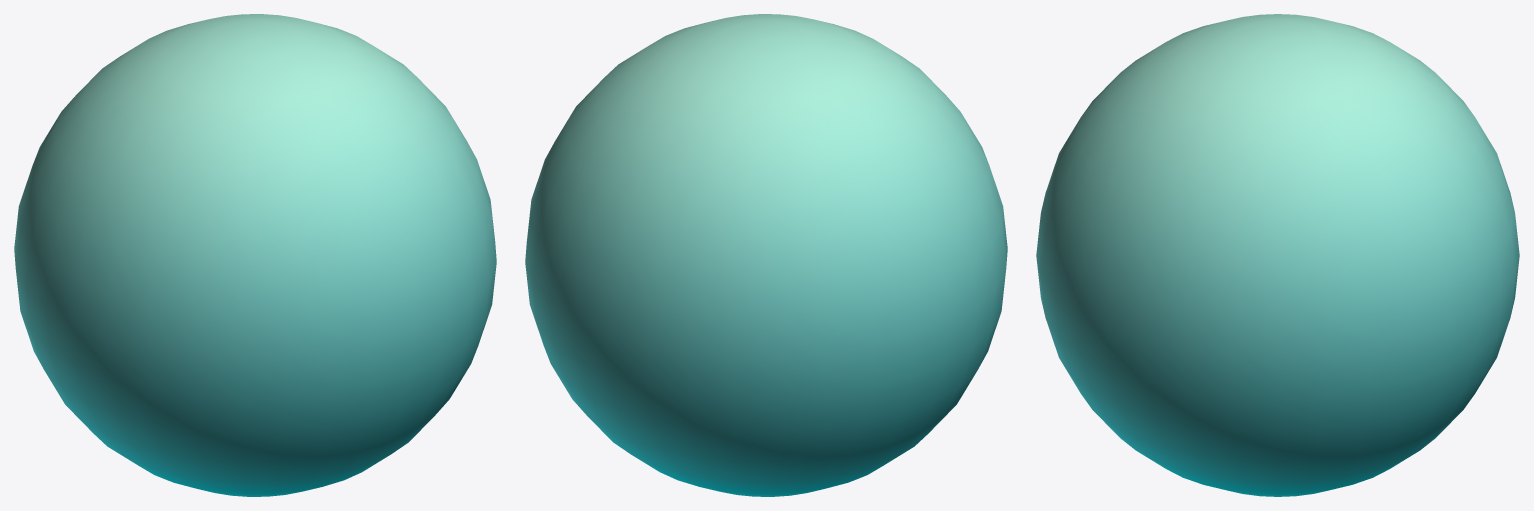
The model's file is stage_3_bellydance.fbx.
3 views of the same model, side by side, from view 1: azimuth 30°, elevation 25°; view 2: azimuth 150°, elevation 25°; view 3: azimuth 270°, elevation 25° (orthographic).
Parts seen in each view (by area): view 1: stage3_background_wall; view 2: stage3_background_wall; view 3: stage3_background_wall.
Part boxes in pixels (x1,y1,x2,y2): stage3_background_wall: [14, 14, 496, 496]; stage3_background_wall: [525, 14, 1007, 496]; stage3_background_wall: [1036, 14, 1519, 496].
Size of the model in its own units: 3000 by 3000 by 3000.
